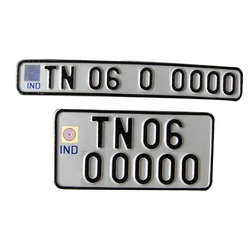number_plate: (55, 109, 213, 191), (16, 58, 243, 98)
